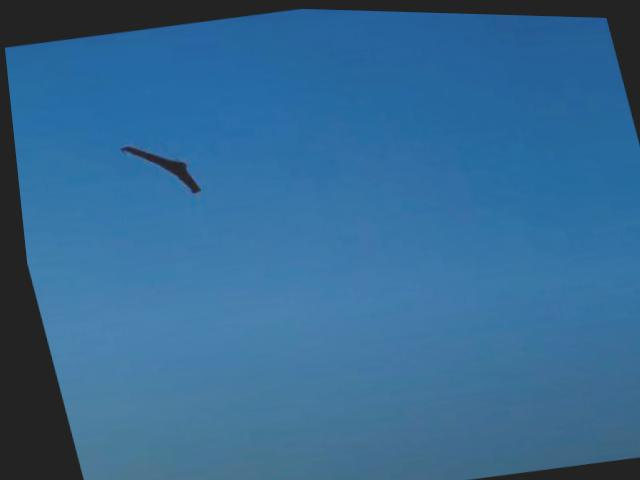iha: (108, 130, 201, 207)
